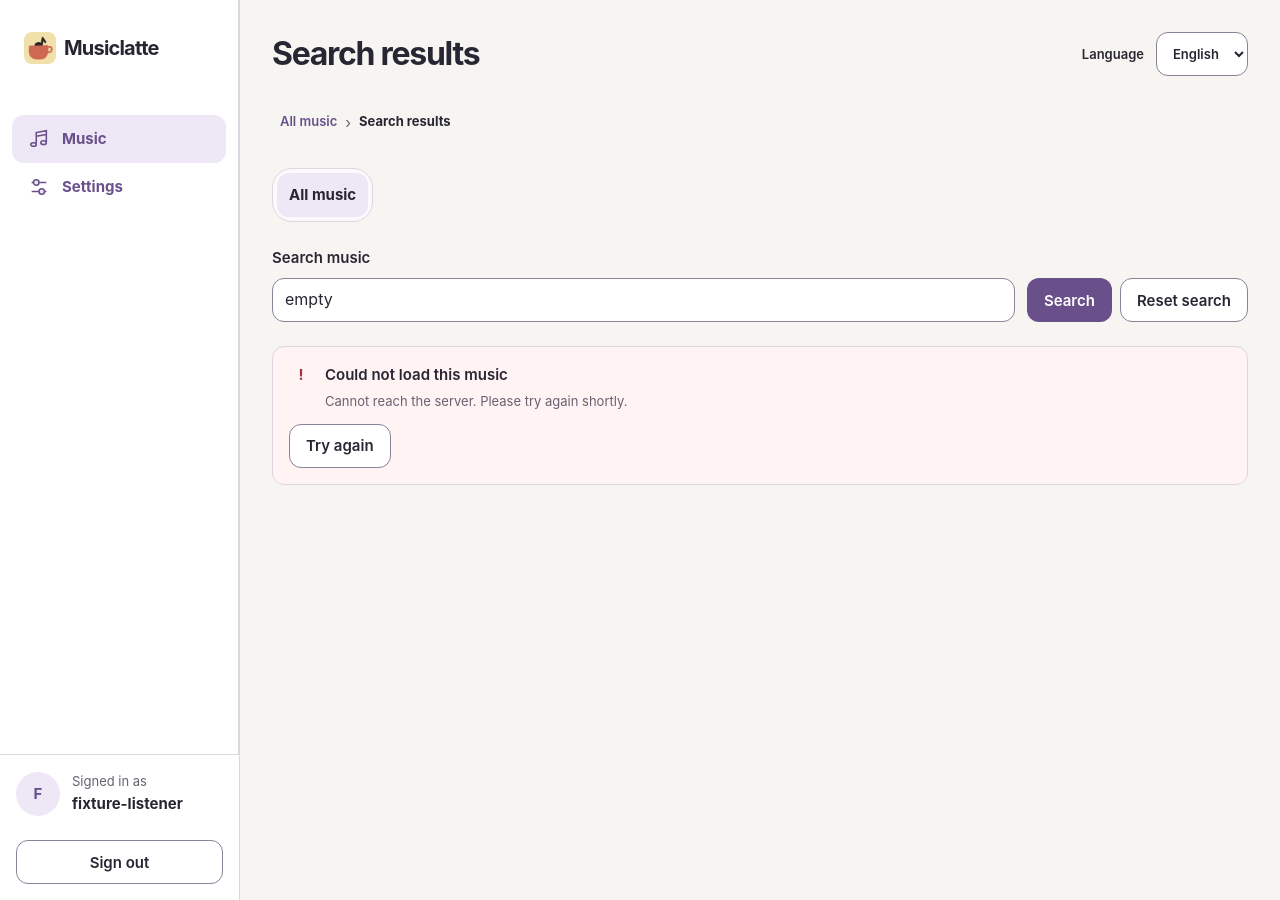
Test: library UI › should recover from a scoped error and distinguish empty search and missing ID
Check: the message shows "Cannot reach the server", box [325, 393, 628, 409]
Check: the search field labelled "Search music" is shown, box [272, 278, 1015, 322]
Click the button "Try again".
click(340, 446)  # box [289, 424, 391, 468]
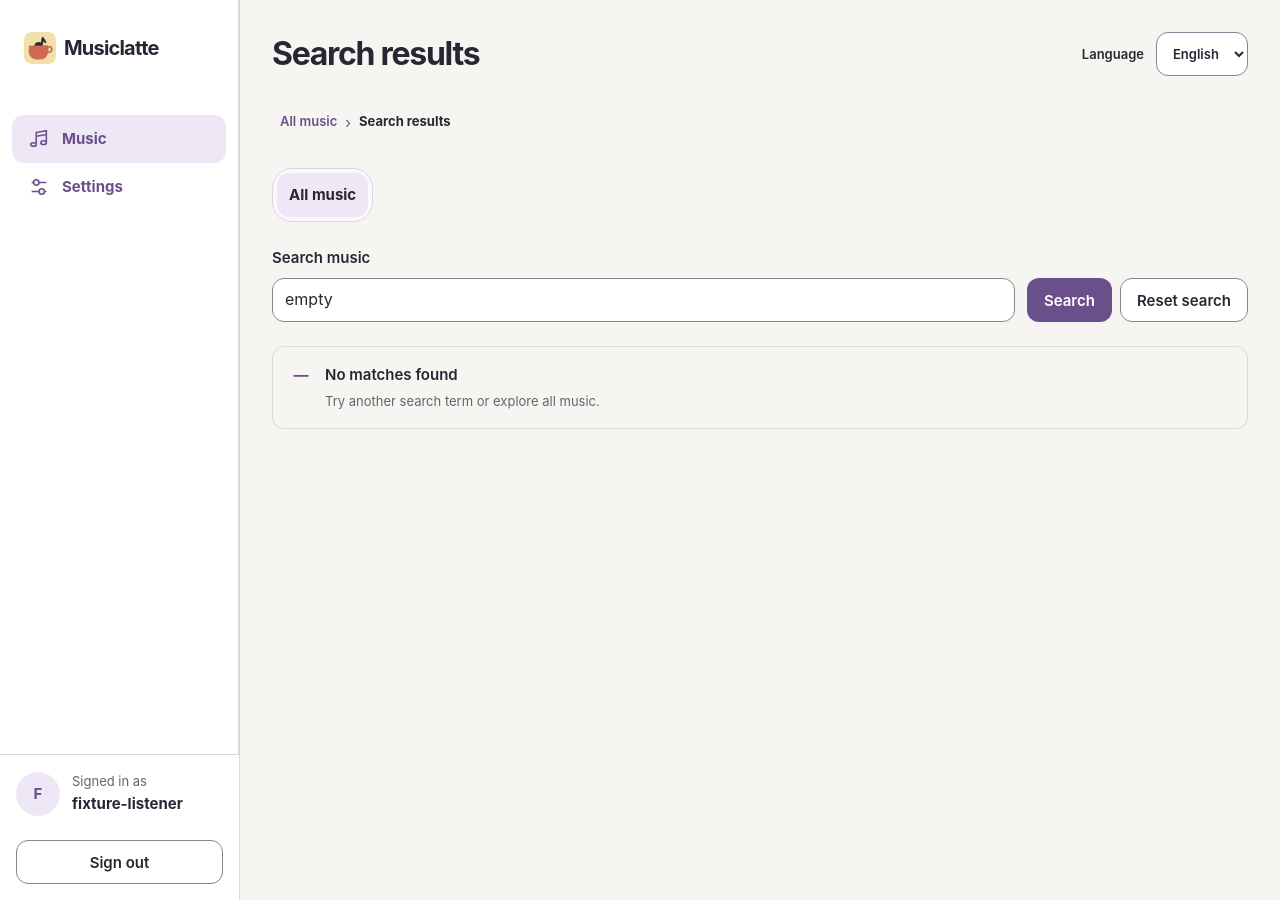
Check: the text "No matches found" is shown, box [325, 365, 458, 384]
Replace the text in the search field labelled "Search music" with "missing" at {"x": 644, "y": 300}, box [272, 278, 1015, 322]
Then press Enter
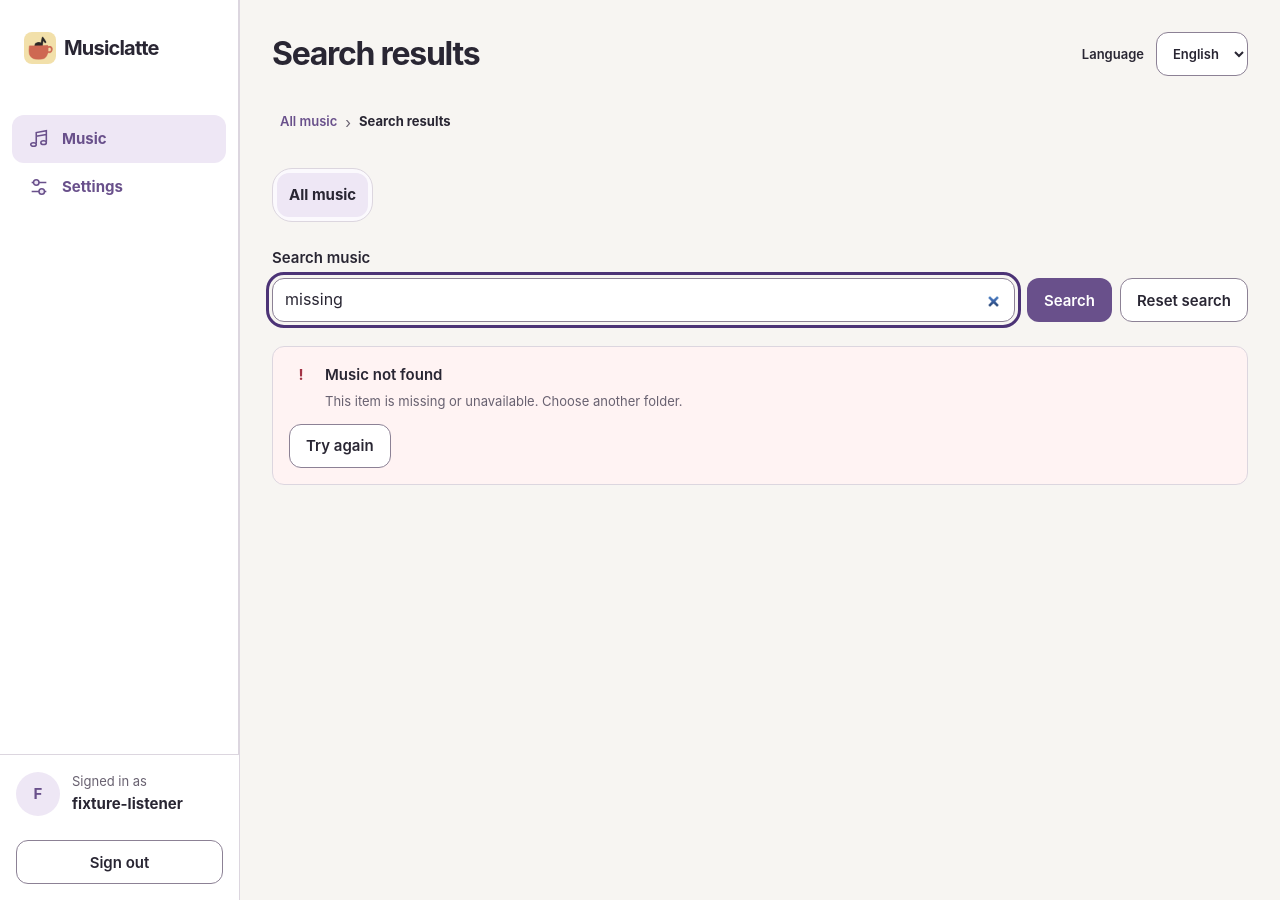
Check: the 2nd link "All music" is shown, box [277, 173, 368, 217]
Check: the text "Music not found" is shown, box [325, 365, 442, 384]
